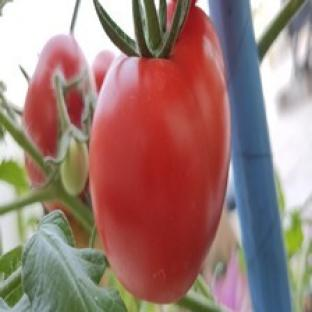Tomato: (90, 6, 229, 302), (23, 35, 89, 157), (92, 51, 115, 93)
